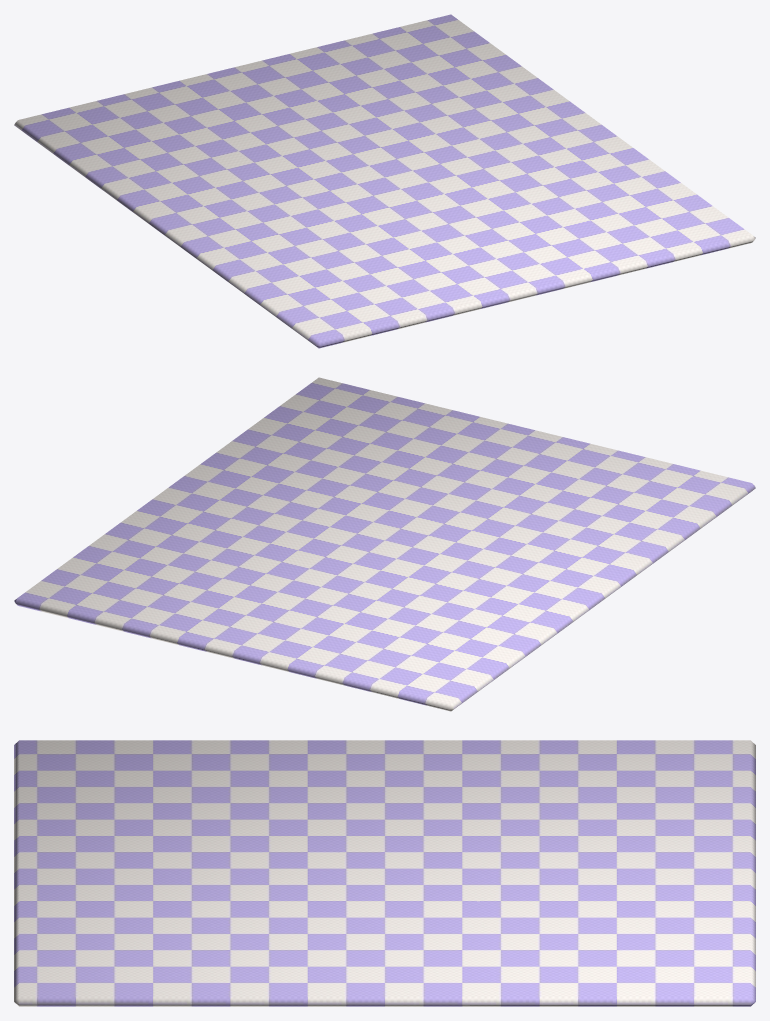
File: w4_01_tabletop.glb
3 views of the same model, one above another, from view 1: azimuth 30°, elevation 25°; view 2: azimuth 150°, elevation 25°; view 3: azimuth 270°, elevation 25° (orthographic). The views are drawn at different scales.
Visible parts, largest first — view 1: W4_01_Desk; view 2: W4_01_Desk; view 3: W4_01_Desk.
Part boxes in pixels (box(x1,y1,x2,y2)): W4_01_Desk: box(14, 14, 755, 348); W4_01_Desk: box(14, 377, 755, 711); W4_01_Desk: box(14, 740, 755, 1006).
Size of the model in its own units: 20 by 0.35 by 24.
Materials: 1 (1 with a texture image).
